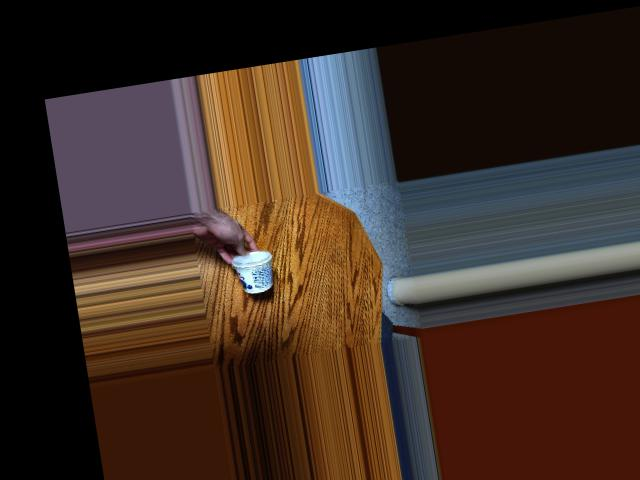cotage: (227, 246, 276, 295)
